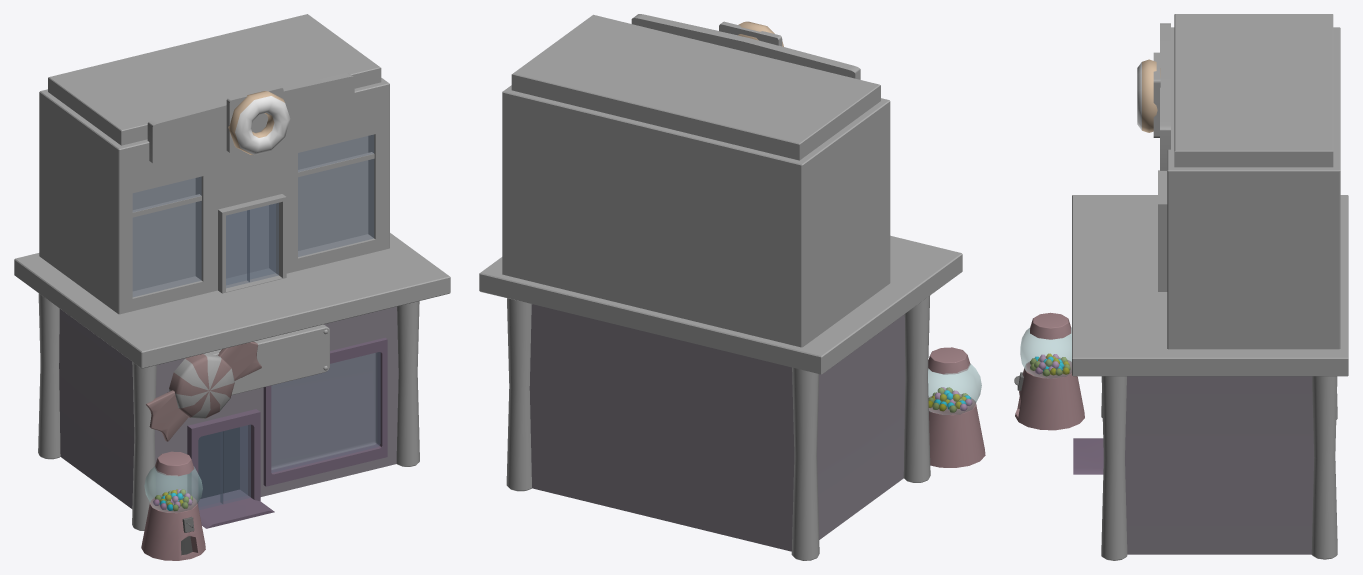
The model's file is CandyStore_Iteration1.fbx.
3 renders of one model, left to right at view 1: azimuth 30°, elevation 25°; view 2: azimuth 150°, elevation 25°; view 3: azimuth 270°, elevation 25°, orthographic. The views are drawn at different scales.
Visible parts, largest first — view 1: pSphere39; view 2: pSphere39; view 3: pSphere39.
Part boxes in pixels (bbox=[...]): pSphere39: bbox=[14, 14, 450, 560]; pSphere39: bbox=[479, 14, 985, 560]; pSphere39: bbox=[1014, 14, 1348, 560].
Size of the model in its own units: 613 by 723 by 520.
